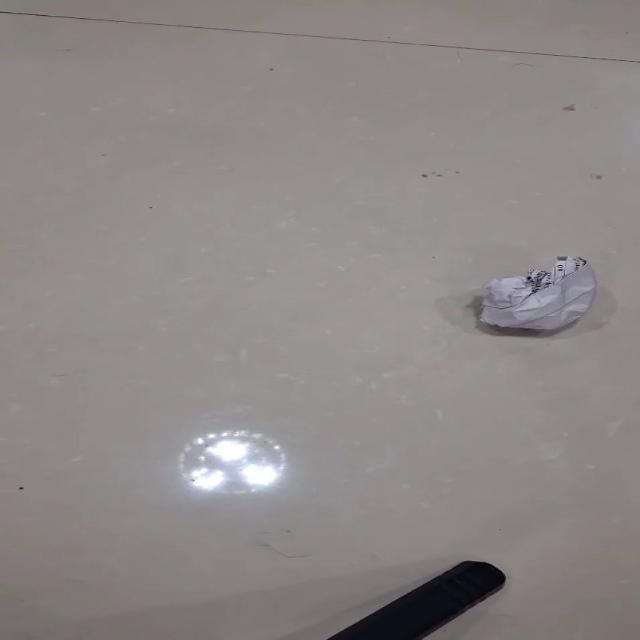paper: (476, 255, 596, 331)
